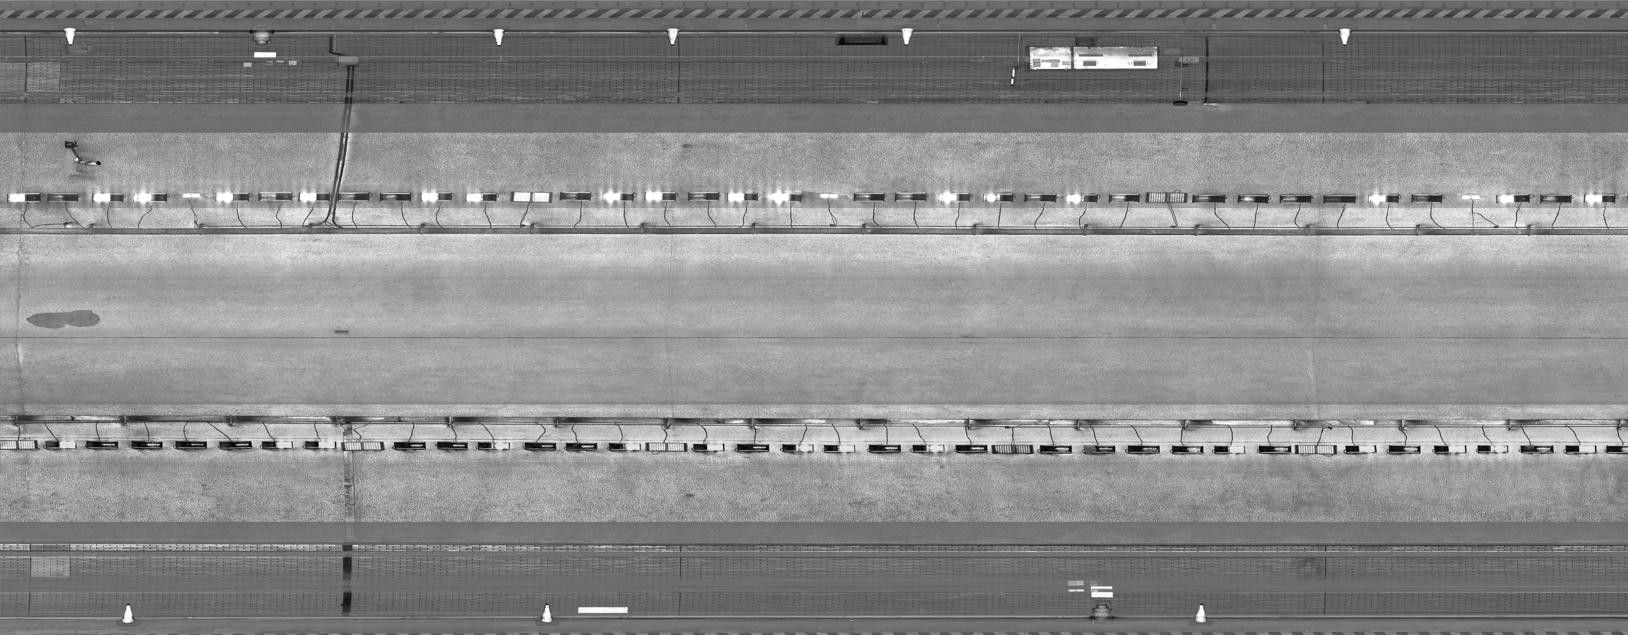light: (508, 187, 557, 206), (338, 436, 388, 454), (1144, 188, 1190, 206), (766, 186, 806, 206), (459, 187, 499, 206), (643, 439, 690, 455), (1292, 440, 1339, 457), (416, 187, 456, 206), (1, 435, 40, 454), (987, 440, 1037, 455), (600, 186, 639, 205), (130, 189, 170, 206), (295, 186, 335, 203), (1188, 190, 1230, 206), (1492, 189, 1535, 205), (723, 188, 762, 205), (1232, 190, 1274, 206), (1340, 440, 1382, 457), (1581, 189, 1618, 208), (557, 187, 595, 204), (684, 187, 723, 204), (1320, 190, 1360, 206), (1406, 190, 1446, 206), (733, 439, 774, 455), (778, 439, 818, 455), (1277, 190, 1317, 206), (1363, 190, 1403, 206), (690, 438, 730, 454), (1080, 441, 1119, 458), (1209, 440, 1248, 457), (213, 188, 254, 203), (39, 436, 81, 451), (432, 438, 473, 453), (907, 440, 949, 455), (1517, 441, 1558, 457), (1562, 441, 1603, 457), (1105, 189, 1143, 205), (1124, 440, 1163, 457), (254, 187, 295, 202), (390, 438, 431, 453), (474, 438, 515, 453), (521, 438, 562, 453), (1430, 440, 1470, 455), (937, 189, 974, 205), (1063, 190, 1101, 206), (216, 437, 255, 452), (643, 188, 679, 204), (81, 437, 123, 451), (170, 437, 212, 451), (892, 189, 930, 204), (1538, 191, 1576, 206), (259, 437, 297, 452), (1255, 441, 1294, 457), (42, 190, 82, 204), (865, 441, 905, 455), (850, 189, 888, 204), (1386, 441, 1423, 457), (4, 190, 44, 204), (88, 190, 128, 204), (376, 189, 415, 203), (819, 441, 859, 455), (980, 189, 1016, 204), (1169, 441, 1205, 457), (1036, 442, 1078, 455), (1022, 190, 1060, 204), (128, 437, 166, 451), (301, 437, 340, 451), (563, 439, 601, 453), (952, 441, 991, 455), (1473, 441, 1512, 455), (606, 439, 644, 453), (335, 190, 375, 203), (1604, 440, 1628, 454), (1458, 191, 1485, 202), (817, 191, 842, 200), (177, 189, 203, 197)
